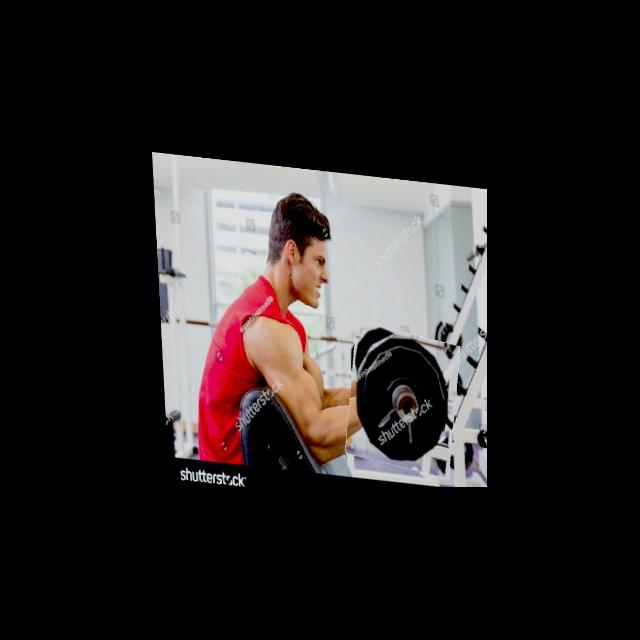barbell: (341, 318, 459, 470)
